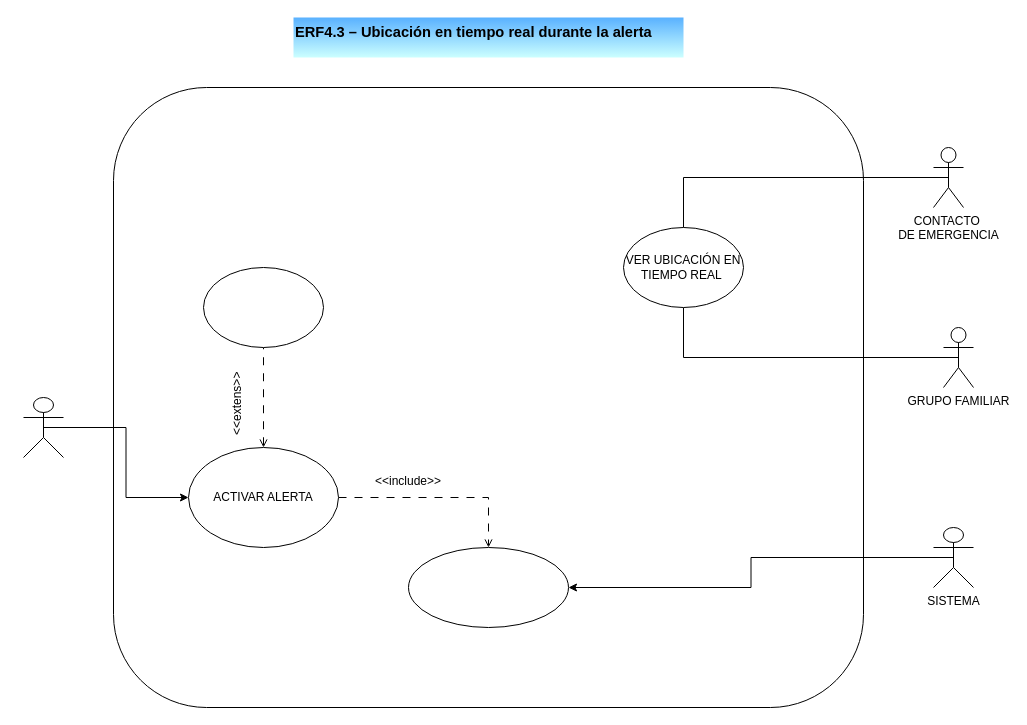
Image size: 1027x725. Some labels were removed from this diagram. Here are the shapes that lost their labels. From the top down, the box of each, then its label:
(202, 266, 324, 348): Cancelar ALERTA
(22, 396, 64, 458): USUARIA
(408, 546, 568, 628): COMPARTIR UBICACIÓN EN TIEMPO REAL
